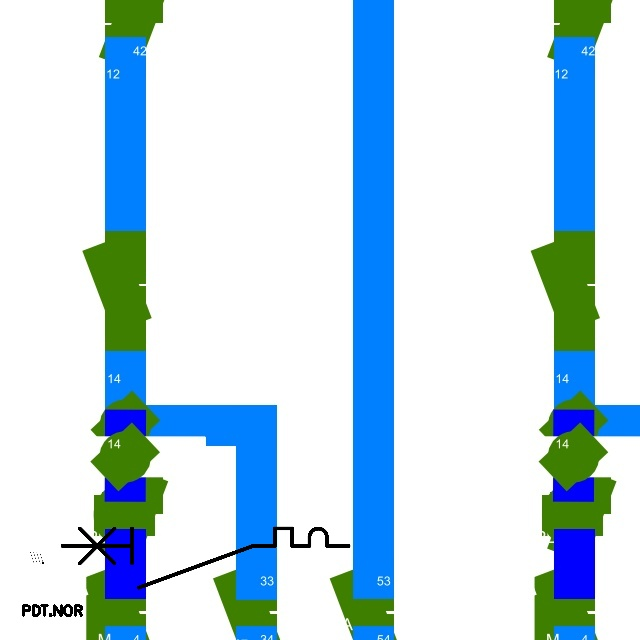interruptor_termomagnetico: (55, 521, 356, 594)
